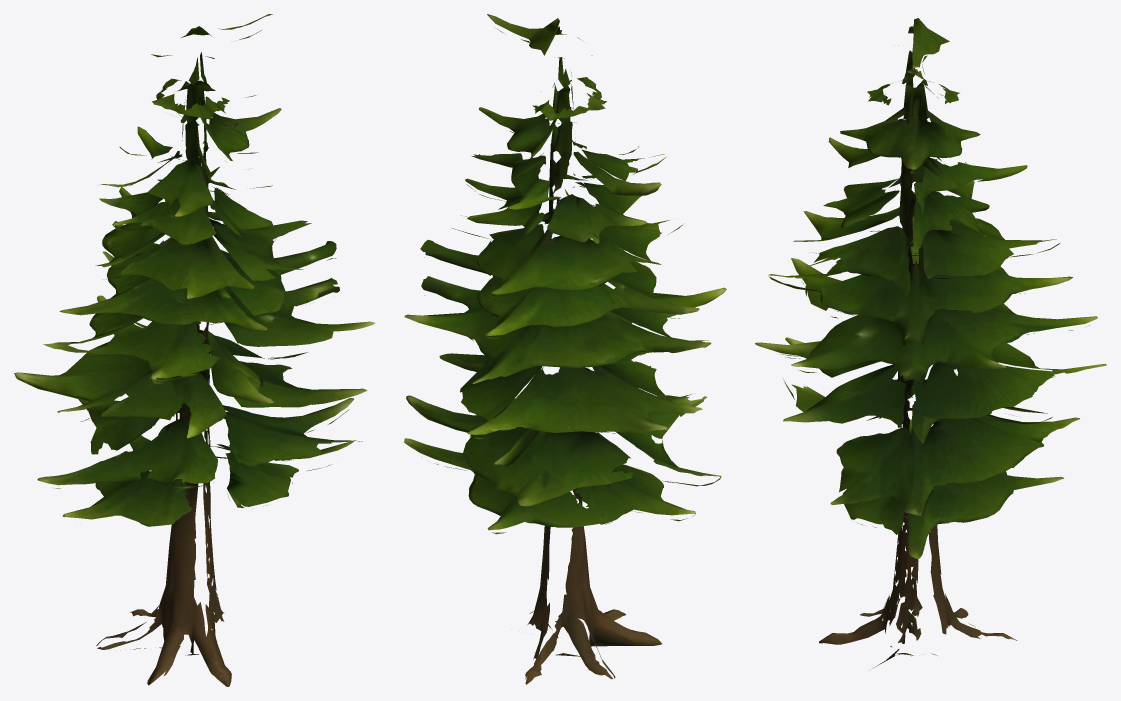
Rendered from pine_github.glb.
3 views of the same model, side by side, from view 1: azimuth 30°, elevation 25°; view 2: azimuth 150°, elevation 25°; view 3: azimuth 270°, elevation 25° (orthographic).
Parts seen in each view (by area): view 1: pine_github; view 2: pine_github; view 3: pine_github.
Part boxes in pixels (bbox=[...]): pine_github: bbox=[14, 14, 375, 686]; pine_github: bbox=[404, 14, 726, 684]; pine_github: bbox=[755, 18, 1106, 668].
Bounding box in the file's own units: 0.4468 × 0.8457 × 0.4257.
Materials: 1 (1 with a texture image).
